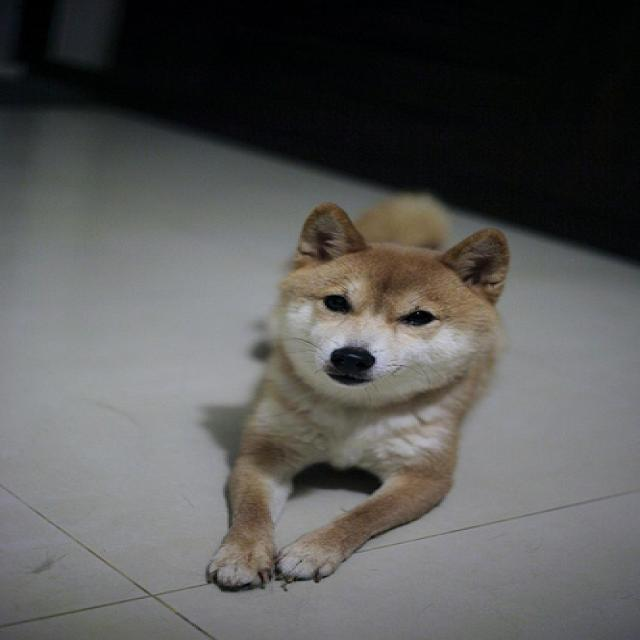dog-shiba_inu: (190, 184, 530, 600)
